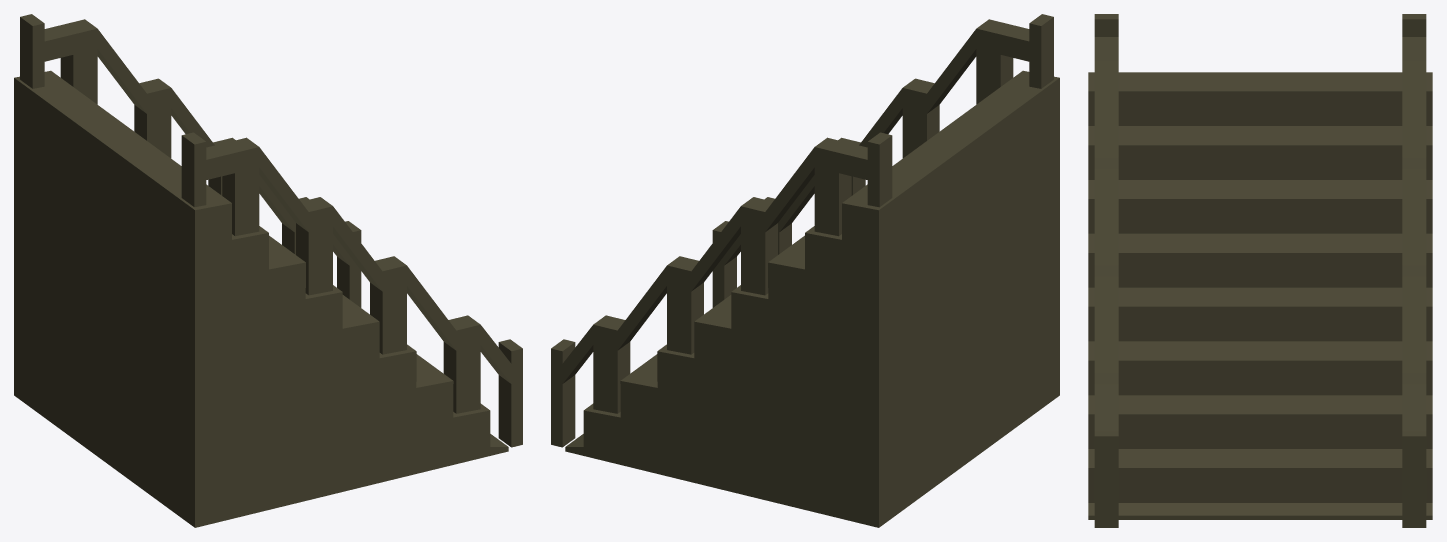
The model's file is stairs.gltf.
3 views of the same model, side by side, from view 1: azimuth 30°, elevation 25°; view 2: azimuth 150°, elevation 25°; view 3: azimuth 270°, elevation 25° (orthographic). The views are drawn at different scales.
Parts seen in each view (by area): view 1: stairs; view 2: stairs; view 3: stairs.
Boxes of the visible parts, <box> form: stairs: <box>14,14,522,527</box>; stairs: <box>551,14,1059,527</box>; stairs: <box>1088,14,1432,527</box>.
Bounding box in the file's own units: 4.22 × 4.64 × 4.
